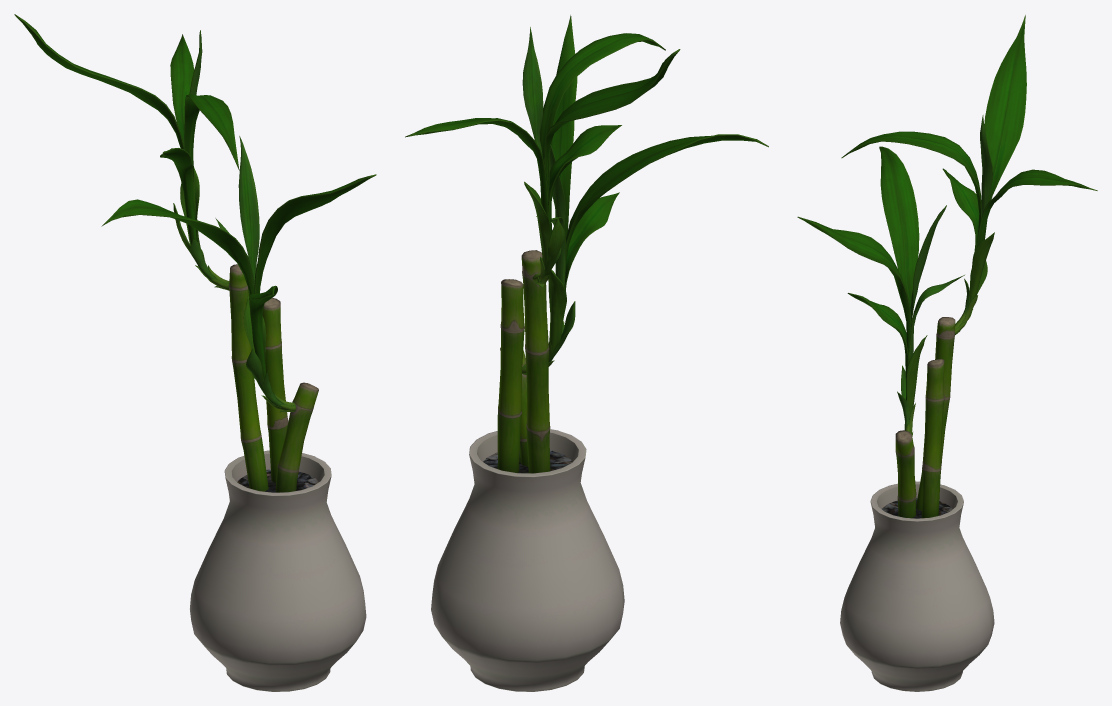
The model's file is plantPot.fbx.
3 views of the same model, side by side, from view 1: azimuth 30°, elevation 25°; view 2: azimuth 150°, elevation 25°; view 3: azimuth 270°, elevation 25° (orthographic). The views are drawn at different scales.
Parts seen in each view (by area): view 1: node_id156; view 2: node_id156; view 3: node_id156.
Boxes of the visible parts, x1,y1,x2,y2 form: node_id156: (14, 14, 376, 691); node_id156: (405, 15, 768, 691); node_id156: (797, 15, 1097, 691).
Size of the model in its own units: 0.2263 by 0.512 by 0.243.
1 material, 1 textured.
